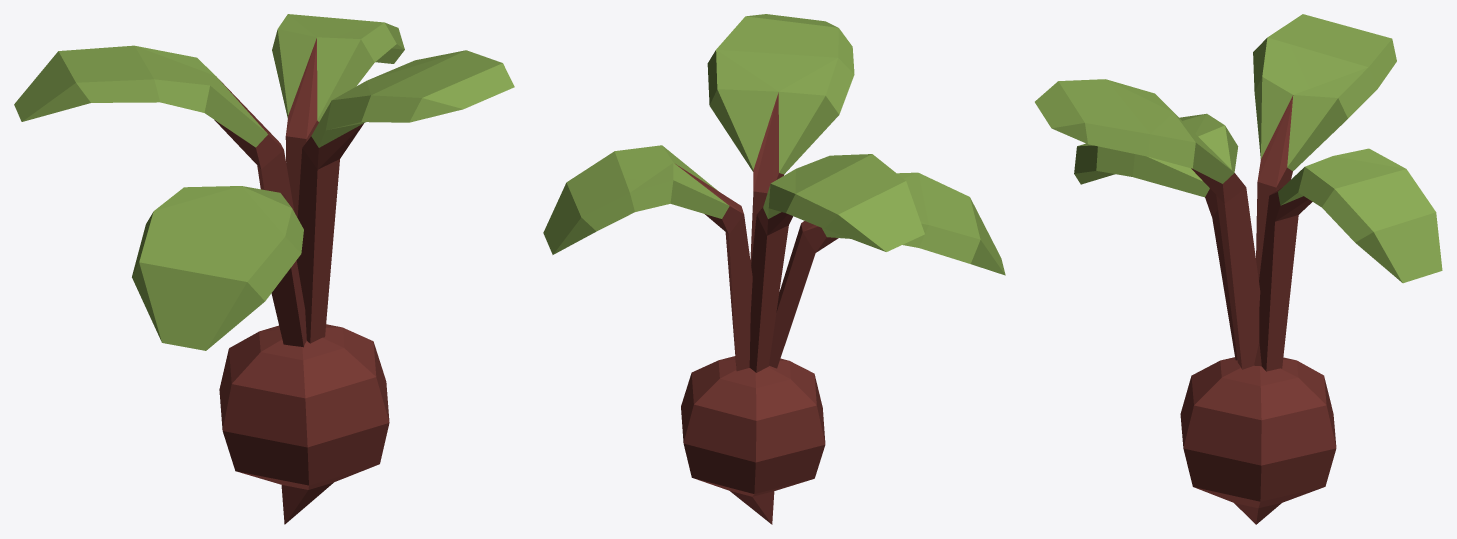
The model's file is beetroot_plant.glb.
3 views of the same model, side by side, from view 1: azimuth 30°, elevation 25°; view 2: azimuth 150°, elevation 25°; view 3: azimuth 270°, elevation 25° (orthographic). The views are drawn at different scales.
Visible parts, largest first — view 1: SM_Prop_Beetroot_01_L; view 2: SM_Prop_Beetroot_01_L; view 3: SM_Prop_Beetroot_01_L.
Boxes of the visible parts, x1,y1,x2,y2 form: SM_Prop_Beetroot_01_L: (14,14,514,524); SM_Prop_Beetroot_01_L: (543,14,1005,524); SM_Prop_Beetroot_01_L: (1035,14,1442,524).
Bounding box in the file's own units: 0.4239 × 0.4928 × 0.3979.
Materials: 1 (1 with a texture image).
